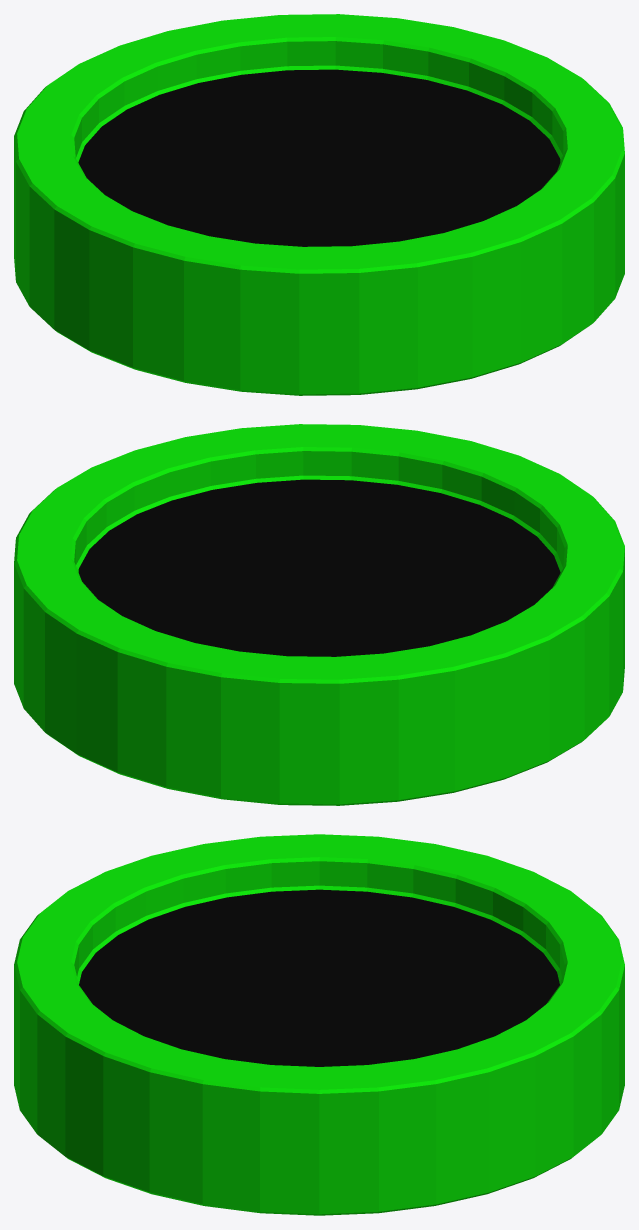
Rendered from PipeEnd.fbx.
3 renders of one model, top to bottom at view 1: azimuth 30°, elevation 25°; view 2: azimuth 150°, elevation 25°; view 3: azimuth 270°, elevation 25°, orthographic.
Visible parts, largest first — view 1: Cylinder; view 2: Cylinder; view 3: Cylinder.
Boxes of the visible parts, x1,y1,x2,y2 form: Cylinder: [14, 14, 624, 395]; Cylinder: [14, 424, 624, 805]; Cylinder: [14, 834, 624, 1215].
Bounding box in the file's own units: 200 × 45.45 × 200.
